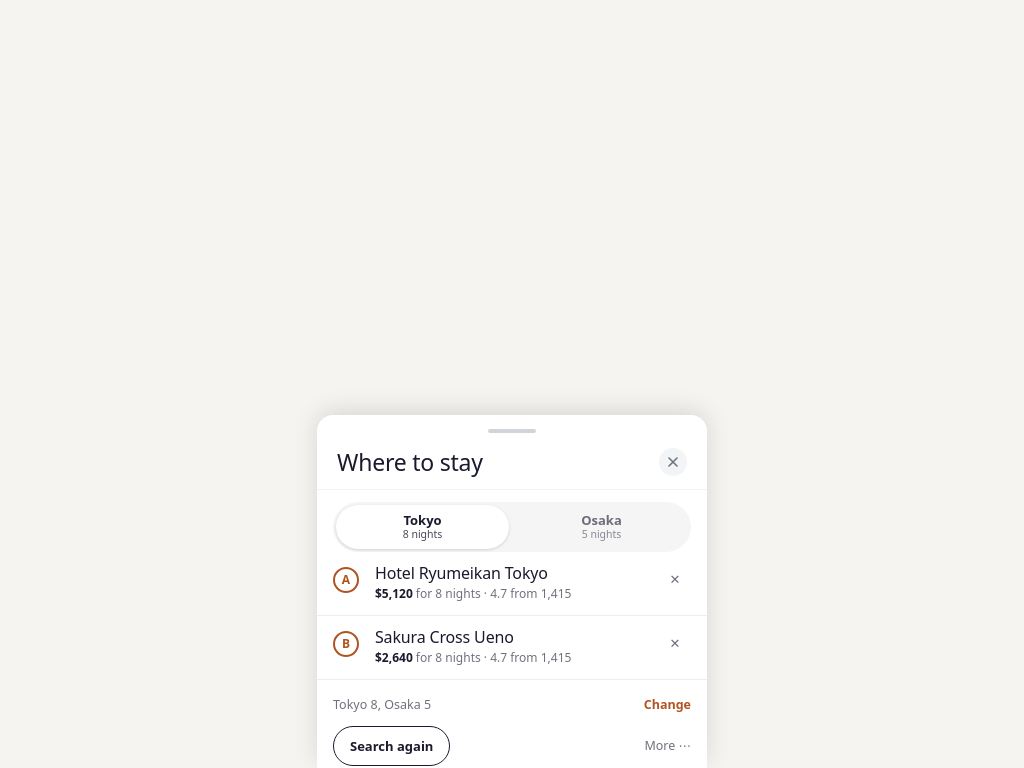
Scenario: the base switcher › shows only the base you are on
Check: the text "Hotel Ryumeikan Tokyo" is shown, box x1=375 y1=562 x2=548 y2=584
Check: the text "Citadines Namba Osaka" is not shown
Step 1. Click the tab "Osaka 5 nights" → (602, 527), box x1=515 y1=505 x2=688 y2=549
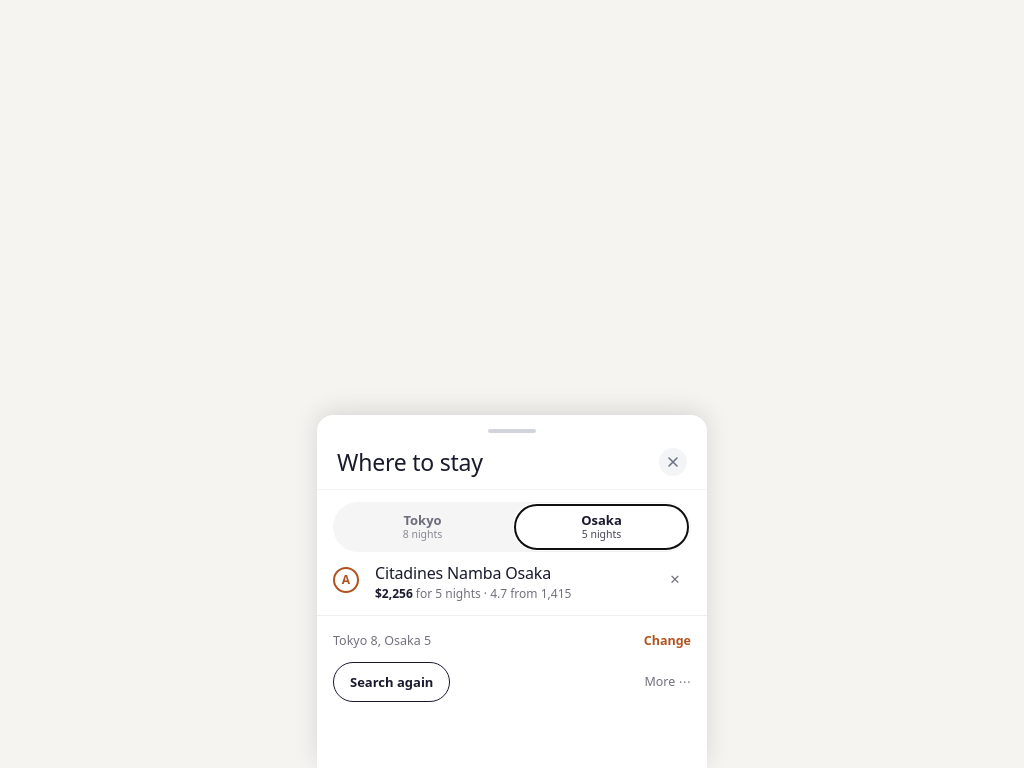
Check: the text "Citadines Namba Osaka" is shown, box x1=375 y1=562 x2=551 y2=584
Check: the text "Hotel Ryumeikan Tokyo" is gone
